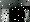person: (23, 7, 30, 22), (3, 10, 10, 22)
